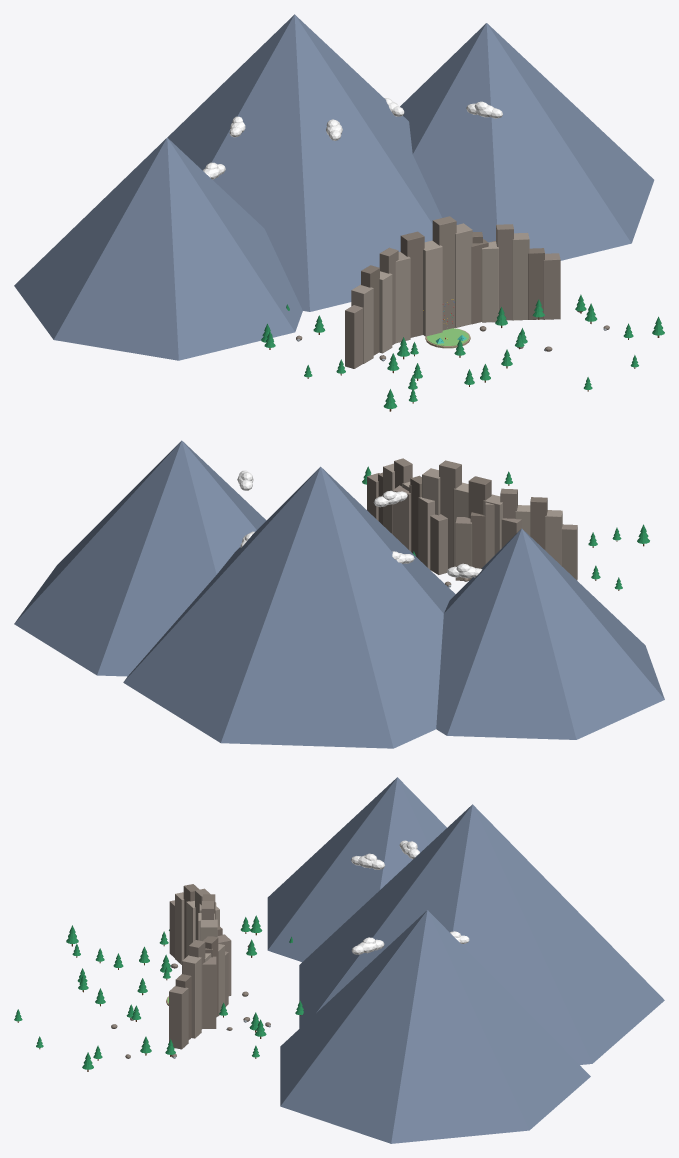
File: RockClimbing_World.fbx
The picture shows the model from 3 angles, top to bottom: view 1: azimuth 30°, elevation 25°; view 2: azimuth 150°, elevation 25°; view 3: azimuth 270°, elevation 25°; orthographic projection. The views are drawn at different scales.
Visible parts, largest first — view 1: Mountain.003, Mountain.001, Mountain.002, Cliff.001, Cliff.003, Cliff.002, Ledge.001; view 2: Mountain.003, Mountain.001, Mountain.002, Cliff.002, Cliff.001, Cliff.003; view 3: Mountain.002, Mountain.003, Mountain.001, Cliff.003, Cliff.002, Cliff.001.
Boxes of the visible parts, left/top/right/bottom form: Mountain.003: left=167, top=14, right=441, bottom=311; Mountain.001: left=14, top=137, right=302, bottom=360; Mountain.002: left=400, top=23, right=654, bottom=260; Cliff.001: left=395, top=216, right=495, bottom=343; Cliff.003: left=472, top=224, right=560, bottom=322; Cliff.002: left=345, top=247, right=398, bottom=368; Ledge.001: left=425, top=328, right=470, bottom=348; Mountain.003: left=123, top=466, right=455, bottom=748; Mountain.001: left=436, top=528, right=664, bottom=739; Mountain.002: left=14, top=440, right=266, bottom=676; Cliff.002: left=455, top=488, right=577, bottom=580; Cliff.001: left=392, top=460, right=521, bottom=568; Cliff.003: left=367, top=458, right=447, bottom=574; Mountain.002: left=280, top=910, right=590, bottom=1143; Mountain.003: left=299, top=804, right=664, bottom=1064; Mountain.001: left=267, top=777, right=446, bottom=961; Cliff.003: left=169, top=936, right=228, bottom=1049; Cliff.002: left=169, top=884, right=231, bottom=995; Cliff.001: left=198, top=894, right=217, bottom=1028.
Bounding box in the file's own units: 220 × 72.6 × 217.
